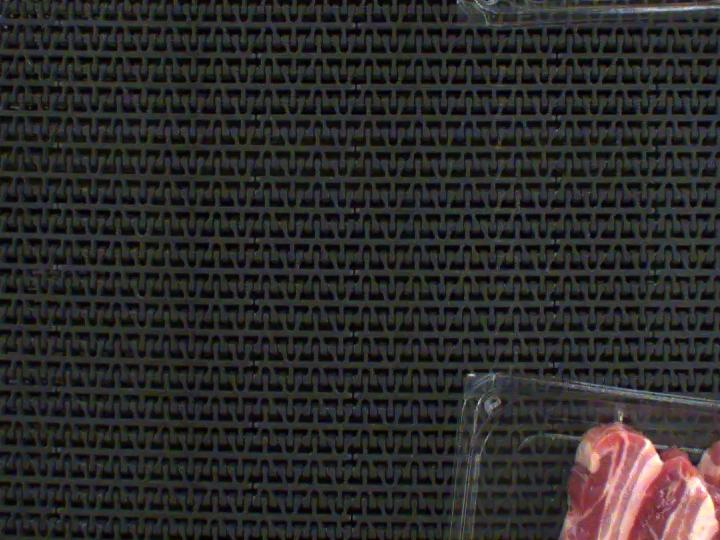packaging-error: (604, 393, 640, 429)
